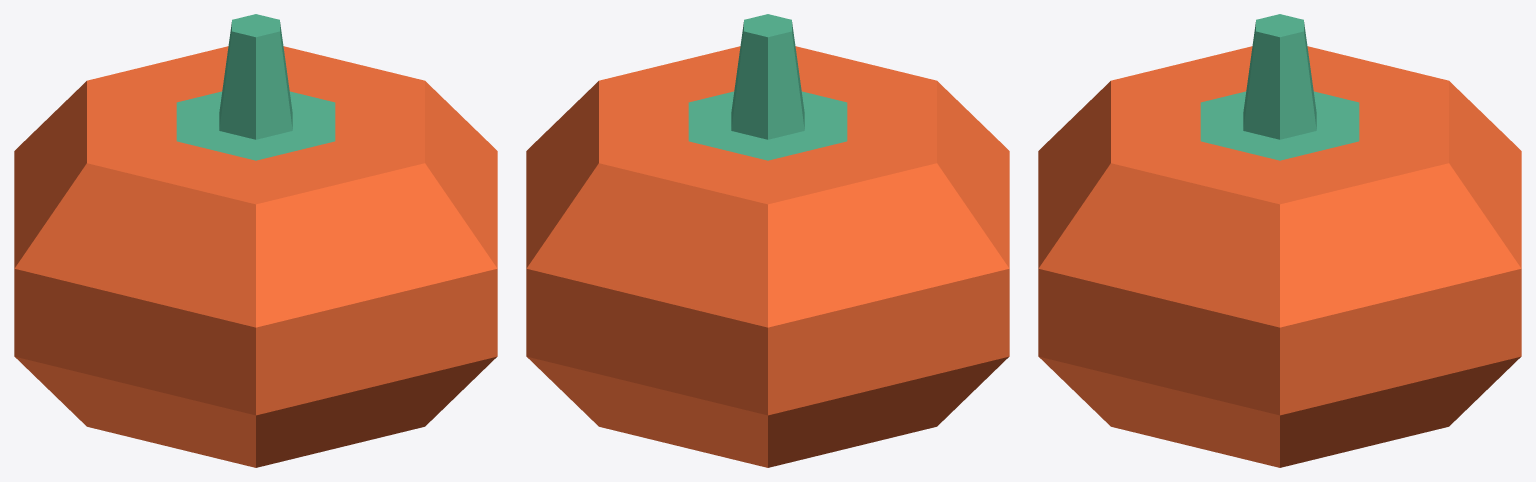
The model's file is pumpkinBasic.fbx.
3 renders of one model, left to right at view 1: azimuth 30°, elevation 25°; view 2: azimuth 150°, elevation 25°; view 3: azimuth 270°, elevation 25°, orthographic.
Parts seen in each view (by area): view 1: pumpkinBasic; view 2: pumpkinBasic; view 3: pumpkinBasic.
Part boxes in pixels (<box>): pumpkinBasic: <box>14,14,497,467</box>; pumpkinBasic: <box>526,14,1009,467</box>; pumpkinBasic: <box>1038,14,1521,467</box>.
Size of the model in its own units: 4.2 by 2.99 by 3.64.
